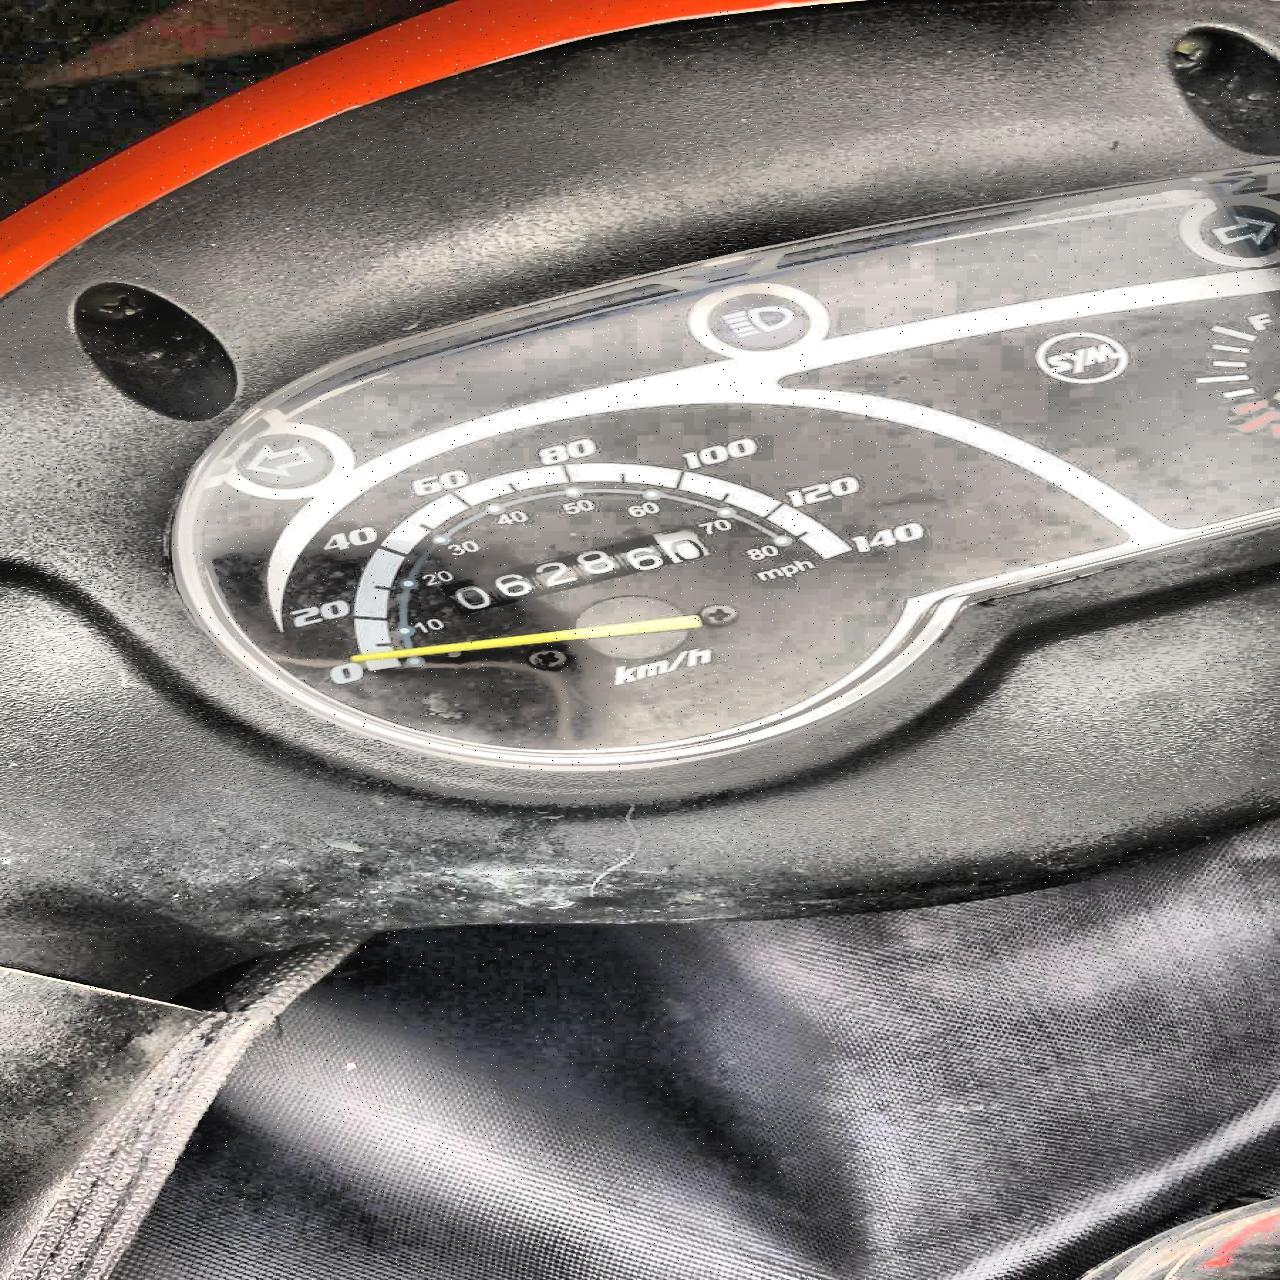0: (452, 585, 491, 610), (668, 538, 702, 563), (459, 539, 478, 552), (435, 570, 452, 580)
2: (533, 561, 576, 586)
3: (445, 543, 464, 554)
6: (622, 546, 663, 570), (492, 573, 531, 595)
8: (574, 550, 614, 573)
odometer: (435, 526, 712, 615)
